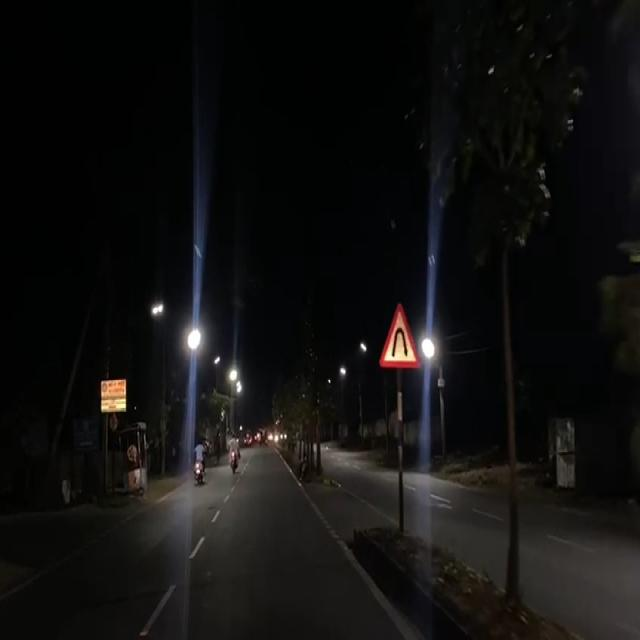bien_cam: (378, 300, 422, 372)
